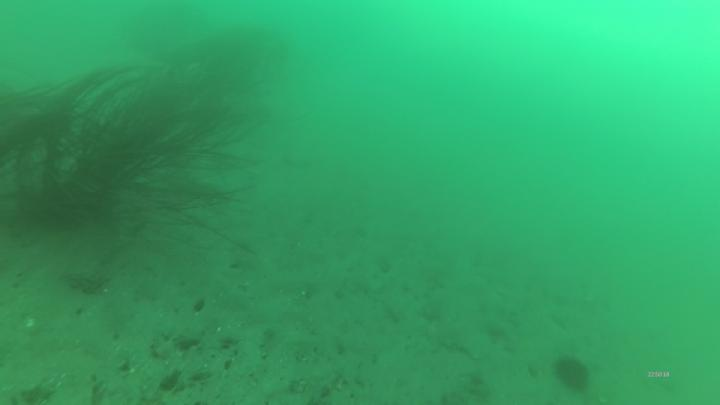echinus: (551, 354, 593, 395)
waterweeds: (56, 55, 247, 212), (1, 63, 140, 219)
